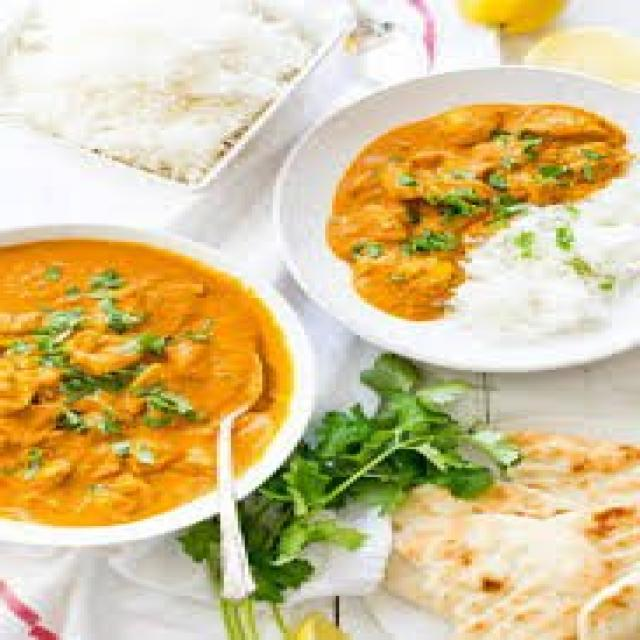Butter Chicken: (0, 243, 291, 531), (330, 100, 632, 196)
